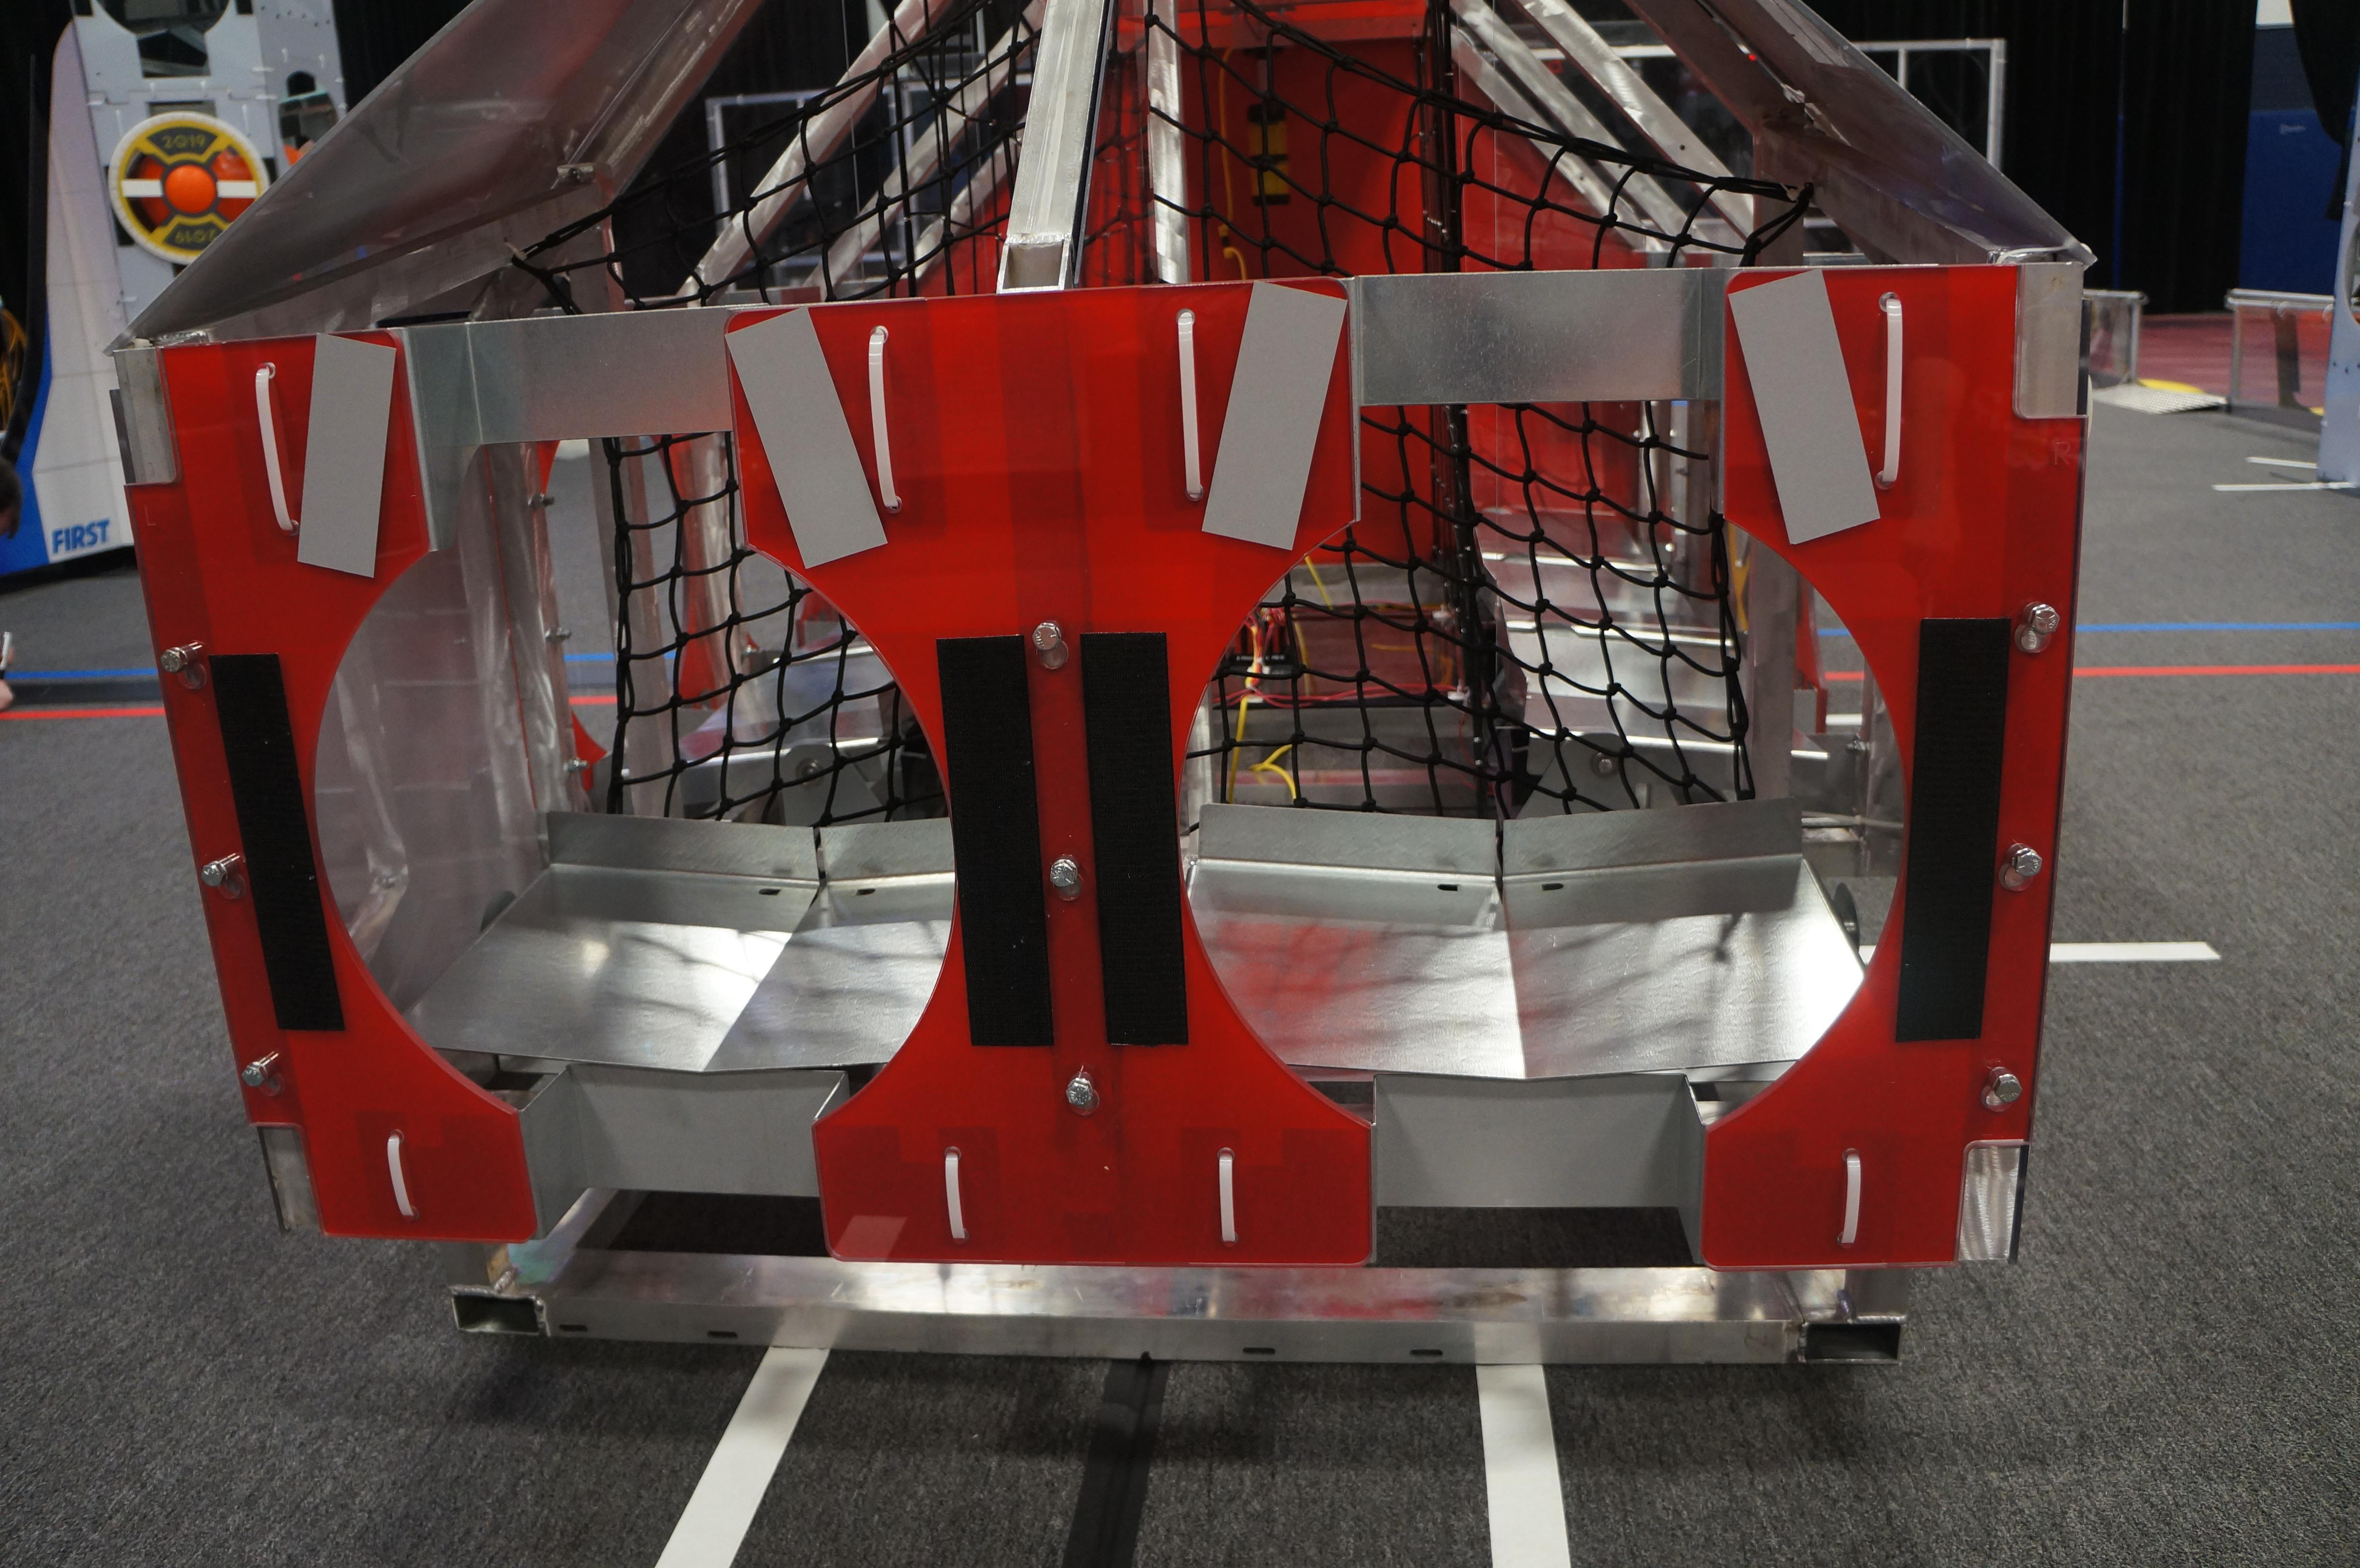Ball: (135, 145, 241, 240)
Hatch: (108, 107, 273, 268)
Tape: (726, 303, 892, 567), (1730, 262, 1884, 546), (1197, 278, 1349, 556), (294, 332, 401, 581)
